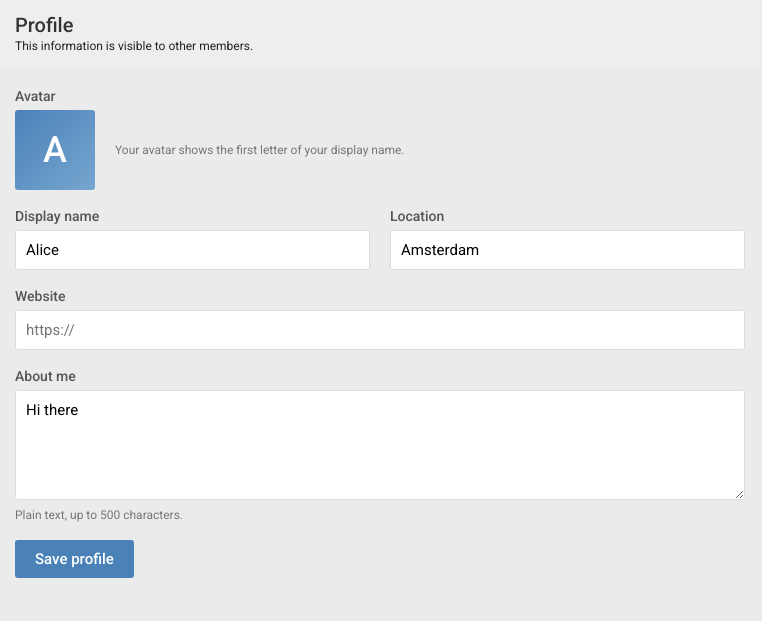
Test: profile: without changes nothing is sent
Expected: the field labelled "Display name" is shown, [15,230,370,270]
Click the button "Save profile".
click(74, 559)  # box [15,540,134,578]
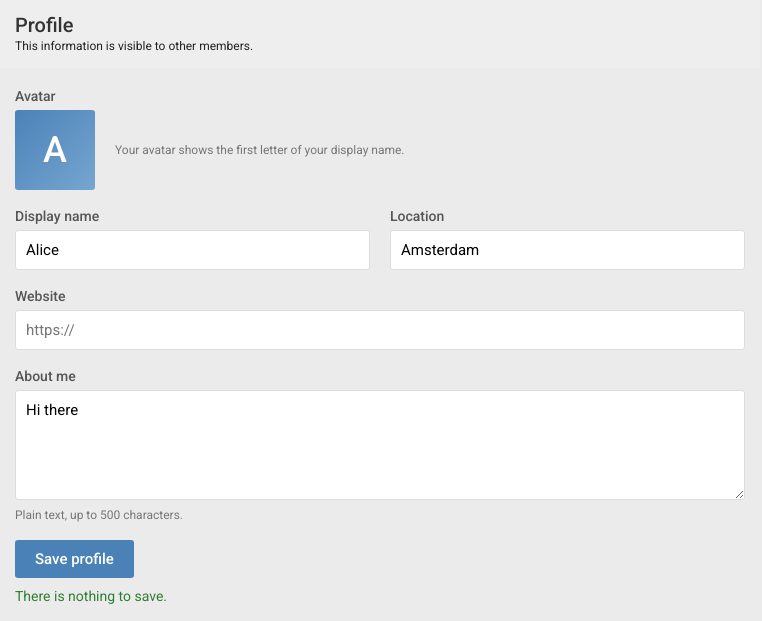
Expected: the message reads "There is nothing to save.", [15,588,167,604]
